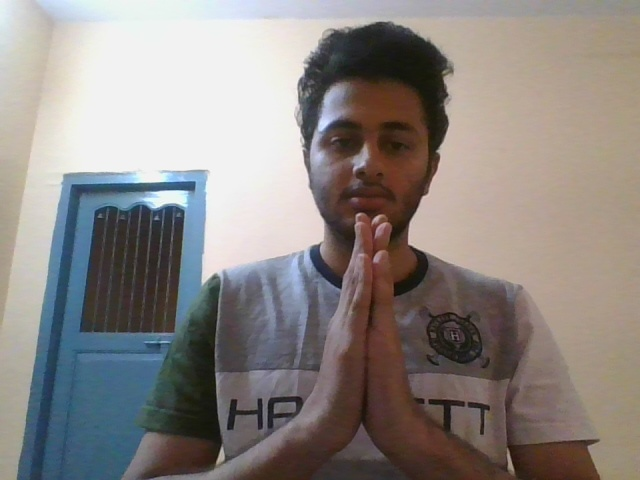Namaskara: (309, 211, 427, 460)
